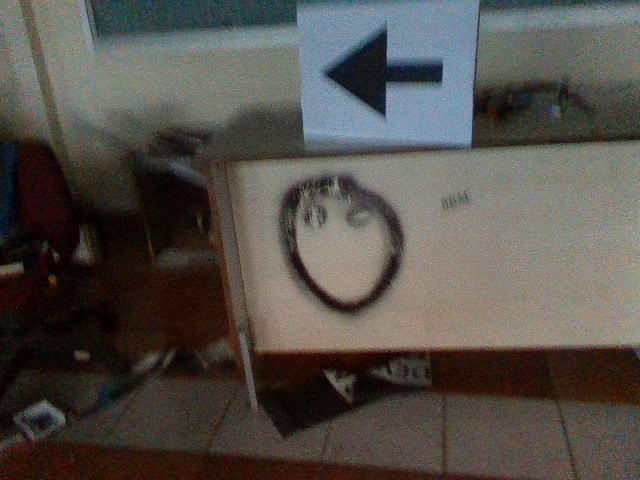Left: (320, 16, 448, 127)
